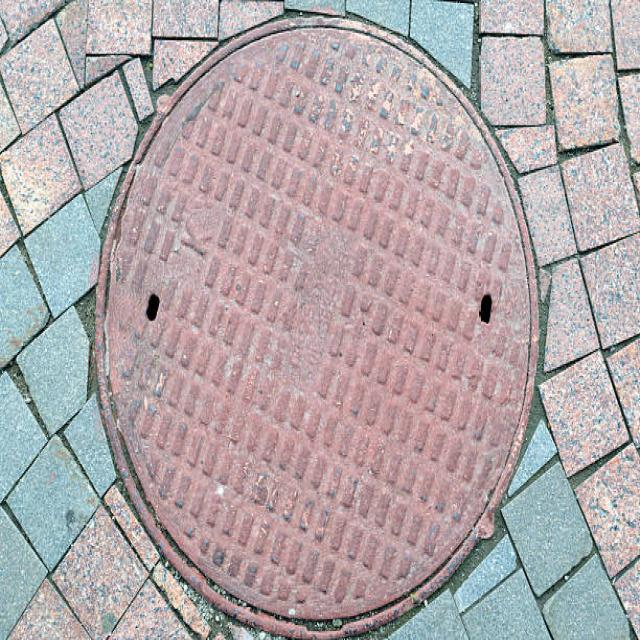Good: (95, 10, 547, 640)
